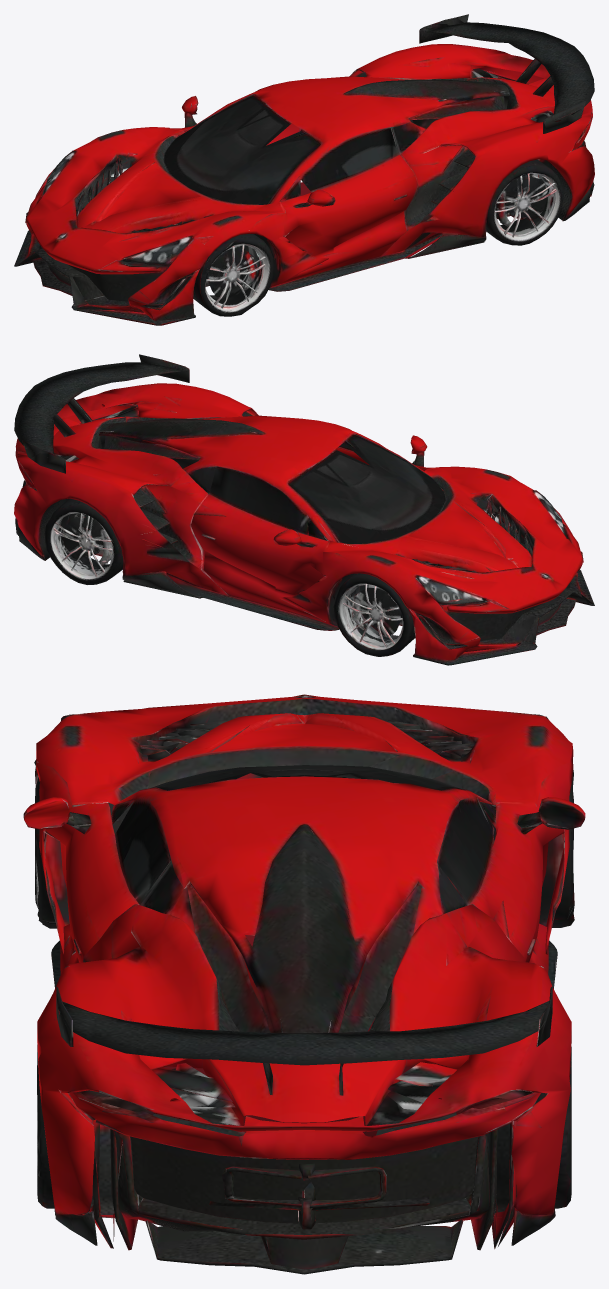
File: red-sports-car.glb
3 renders of one model, top to bottom at view 1: azimuth 30°, elevation 25°; view 2: azimuth 150°, elevation 25°; view 3: azimuth 270°, elevation 25°, orthographic. The views are drawn at different scales.
Size of the model in its own units: 0.9541 by 0.2314 by 0.4341.
Materials: 1 (1 with a texture image).
